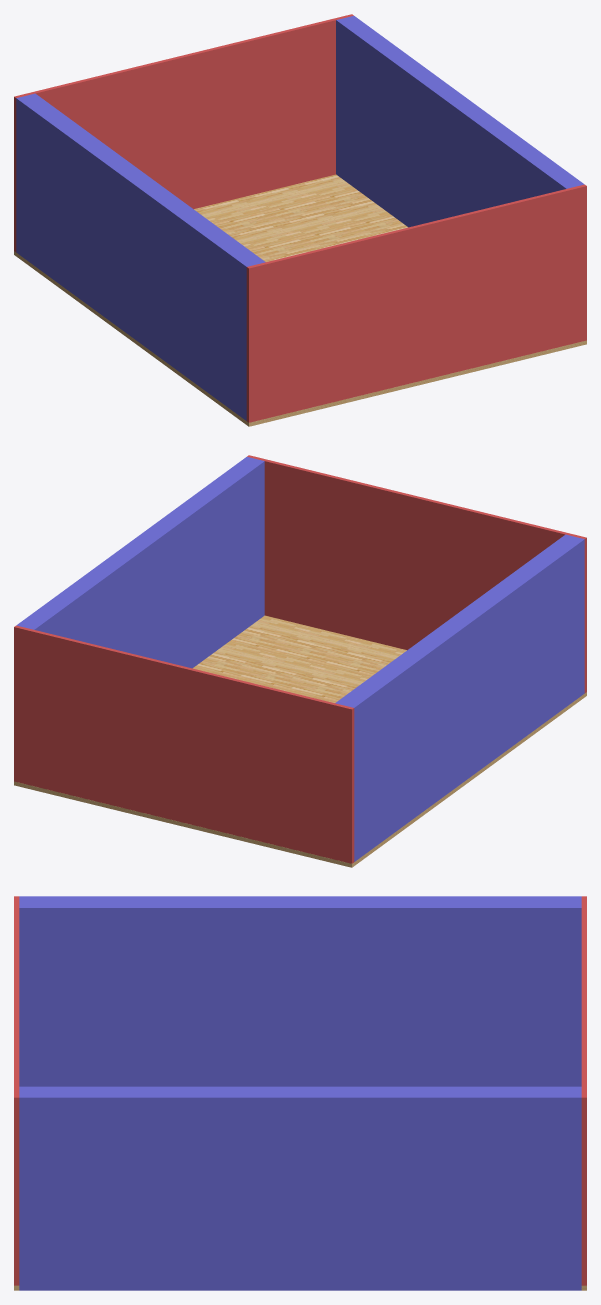
The model's file is sence_ONE.fbx.
The picture shows the model from 3 angles, top to bottom: view 1: azimuth 30°, elevation 25°; view 2: azimuth 150°, elevation 25°; view 3: azimuth 270°, elevation 25°; orthographic projection. The views are drawn at different scales.
Parts seen in each view (by area): view 1: pCube2, pCube5, pCube3, pCube4, pCube1; view 2: pCube3, pCube5, pCube2, pCube4, pCube1; view 3: pCube4, pCube5, pCube3, pCube2.
Boxes of the visible parts, x1,y1,x2,y2 form: pCube2: (246,184,586,422); pCube5: (16,93,265,420); pCube3: (14,14,353,252); pCube4: (336,16,584,227); pCube1: (14,174,586,426); pCube3: (14,625,354,863); pCube5: (335,534,584,861); pCube2: (247,455,586,693); pCube4: (16,457,264,668); pCube1: (14,615,586,867); pCube4: (19,1086,581,1290); pCube5: (19,896,581,1086); pCube3: (581,896,586,1285); pCube2: (14,896,19,1285).
Bounding box in the file's own units: 13.14 × 5.88 × 15.82.
